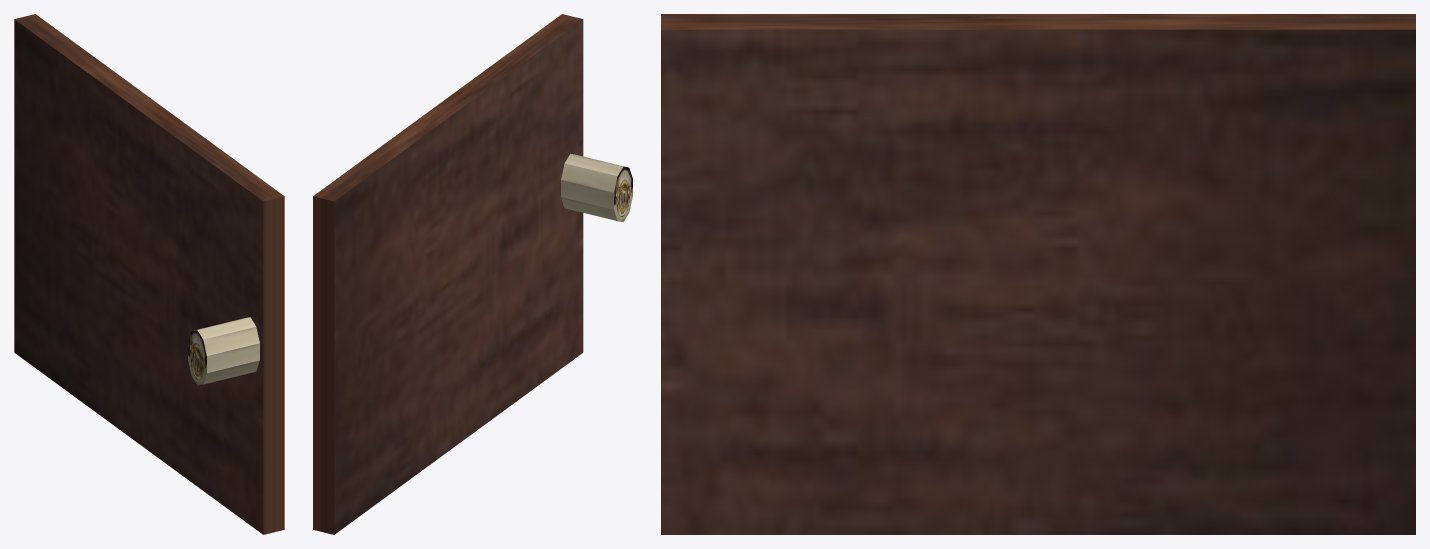
Rendered from puerta2_registradora.obj.
3 views of the same model, side by side, from view 1: azimuth 30°, elevation 25°; view 2: azimuth 150°, elevation 25°; view 3: azimuth 270°, elevation 25° (orthographic). The views are drawn at different scales.
Visible parts, largest first — view 1: Puerta3; view 2: Puerta3; view 3: Puerta3.
Boxes of the visible parts, left/top/right/bottom form: Puerta3: left=14, top=14, right=284, bottom=534; Puerta3: left=313, top=14, right=632, bottom=534; Puerta3: left=661, top=14, right=1415, bottom=534.
Bounding box in the file's own units: 0.084 × 0.36 × 0.4875.
Materials: 2 (2 with a texture image).
